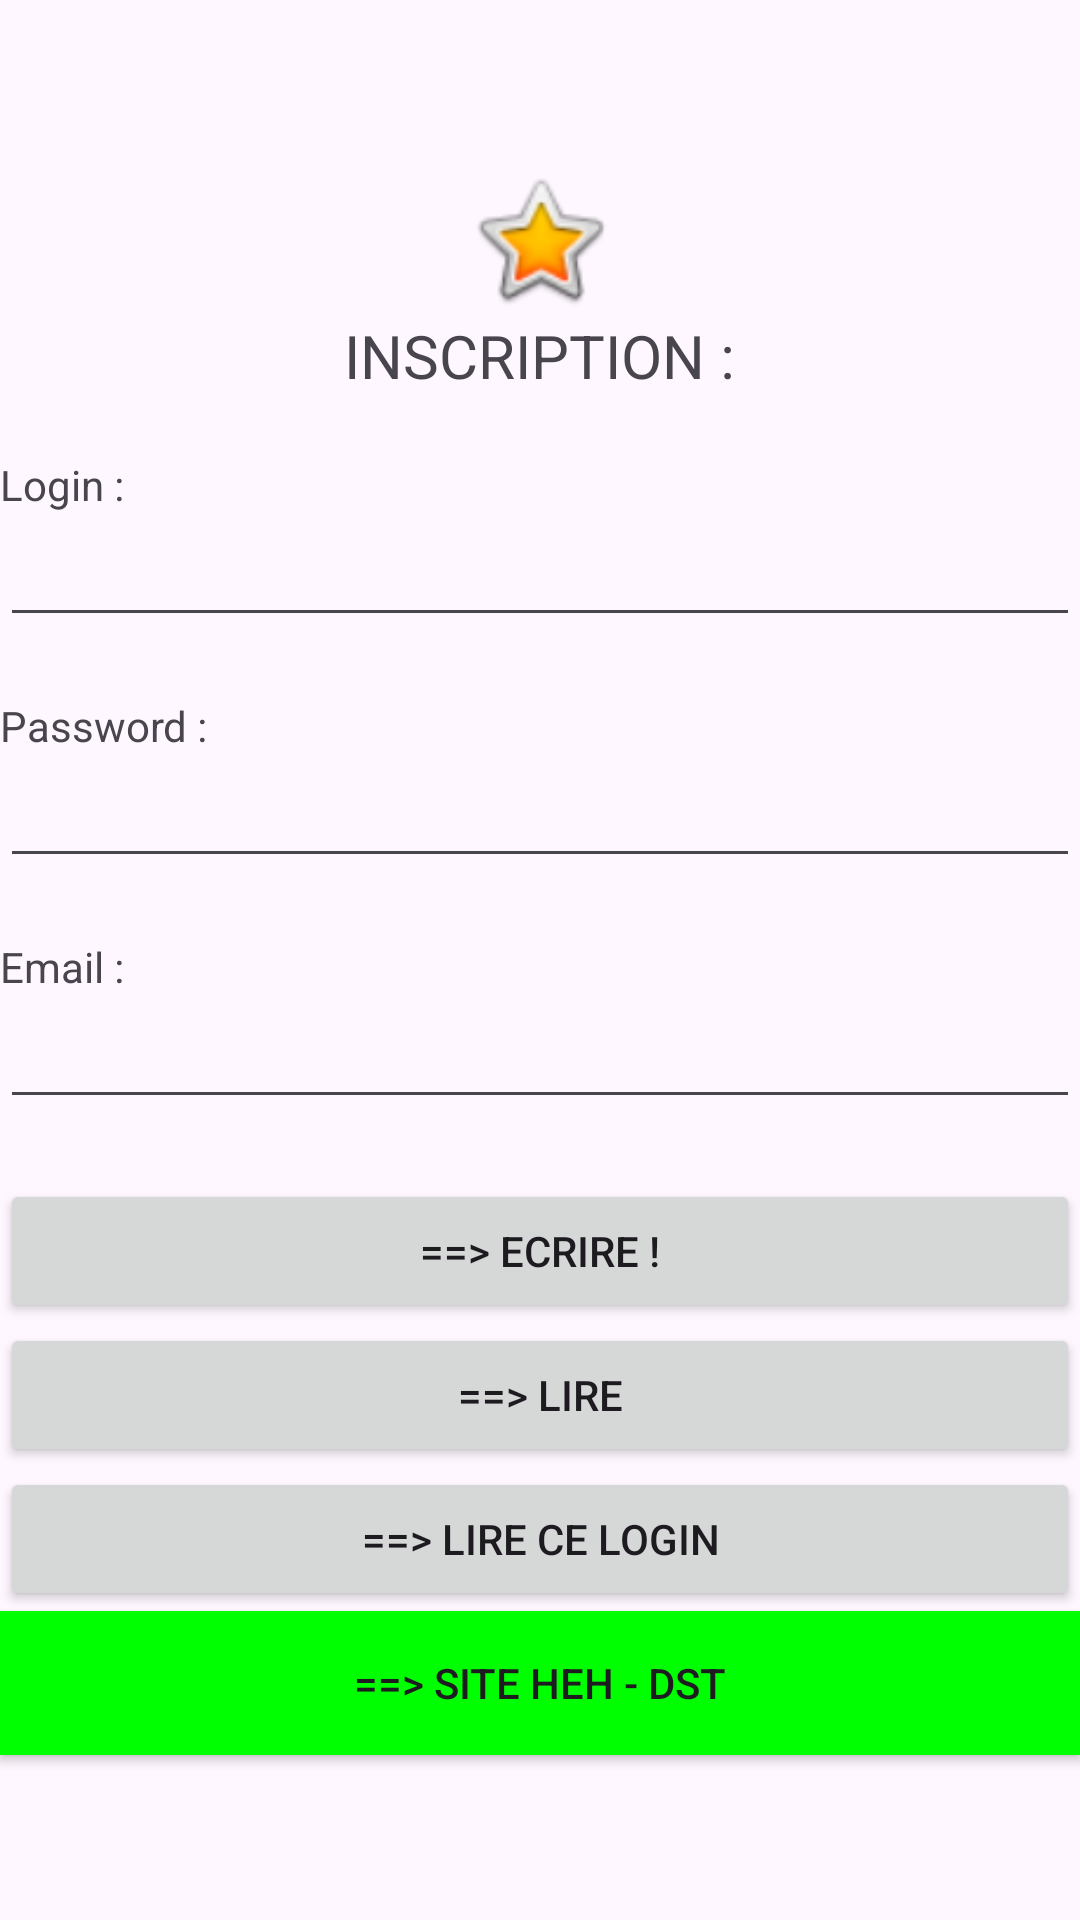

Icons on this 1080w x 1920h Android screen, each with its box as BBox(x1, y1, x2, y2):
little star: BBox(479, 180, 604, 302)
